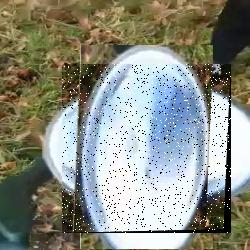metal: (62, 64, 231, 233)
